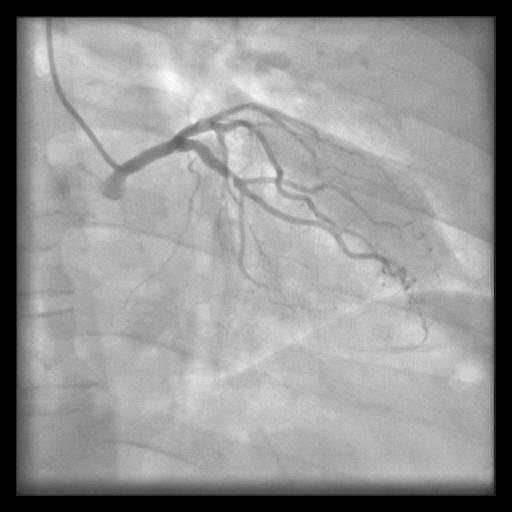Stenosis: (227, 168, 234, 183)
